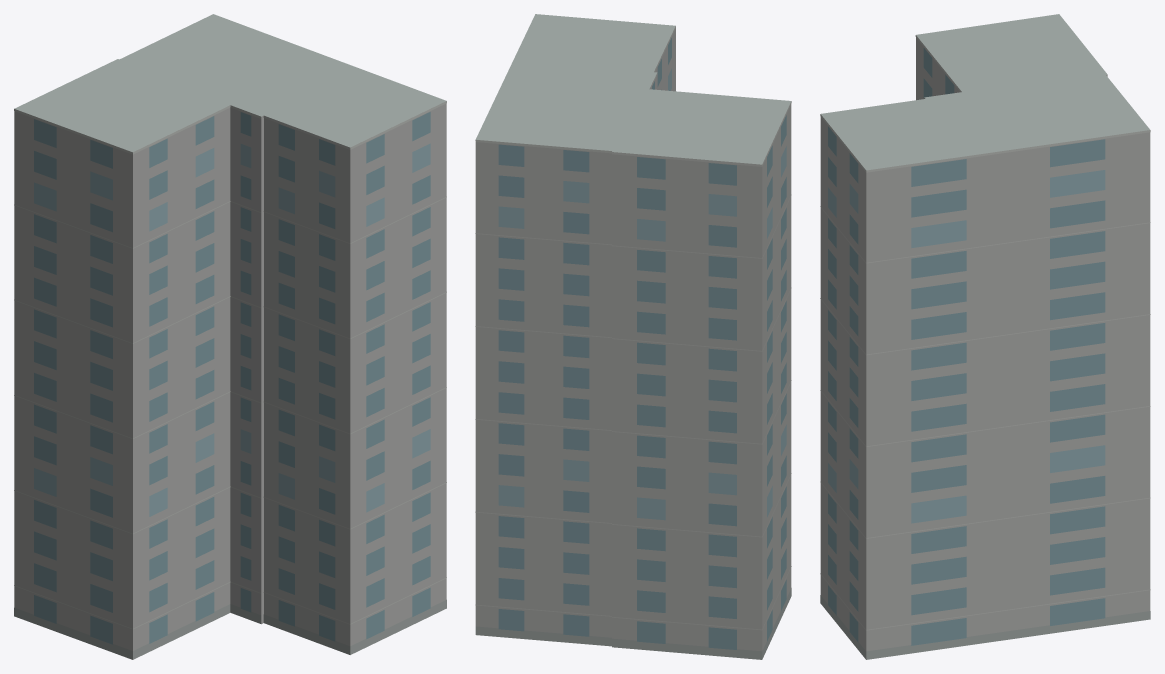
The model's file is survey-upis-32891268.glb.
3 renders of one model, left to right at view 1: azimuth 30°, elevation 25°; view 2: azimuth 150°, elevation 25°; view 3: azimuth 270°, elevation 25°, orthographic. The views are drawn at different scales.
Visible parts, largest first — view 1: survey-upis-32891268.tmp; view 2: survey-upis-32891268.tmp; view 3: survey-upis-32891268.tmp.
Boxes of the visible parts, bbox=[...] form: survey-upis-32891268.tmp: bbox=[14, 14, 446, 659]; survey-upis-32891268.tmp: bbox=[475, 14, 791, 659]; survey-upis-32891268.tmp: bbox=[820, 14, 1150, 659].
Size of the model in its own units: 36.04 by 52.53 by 32.12.
